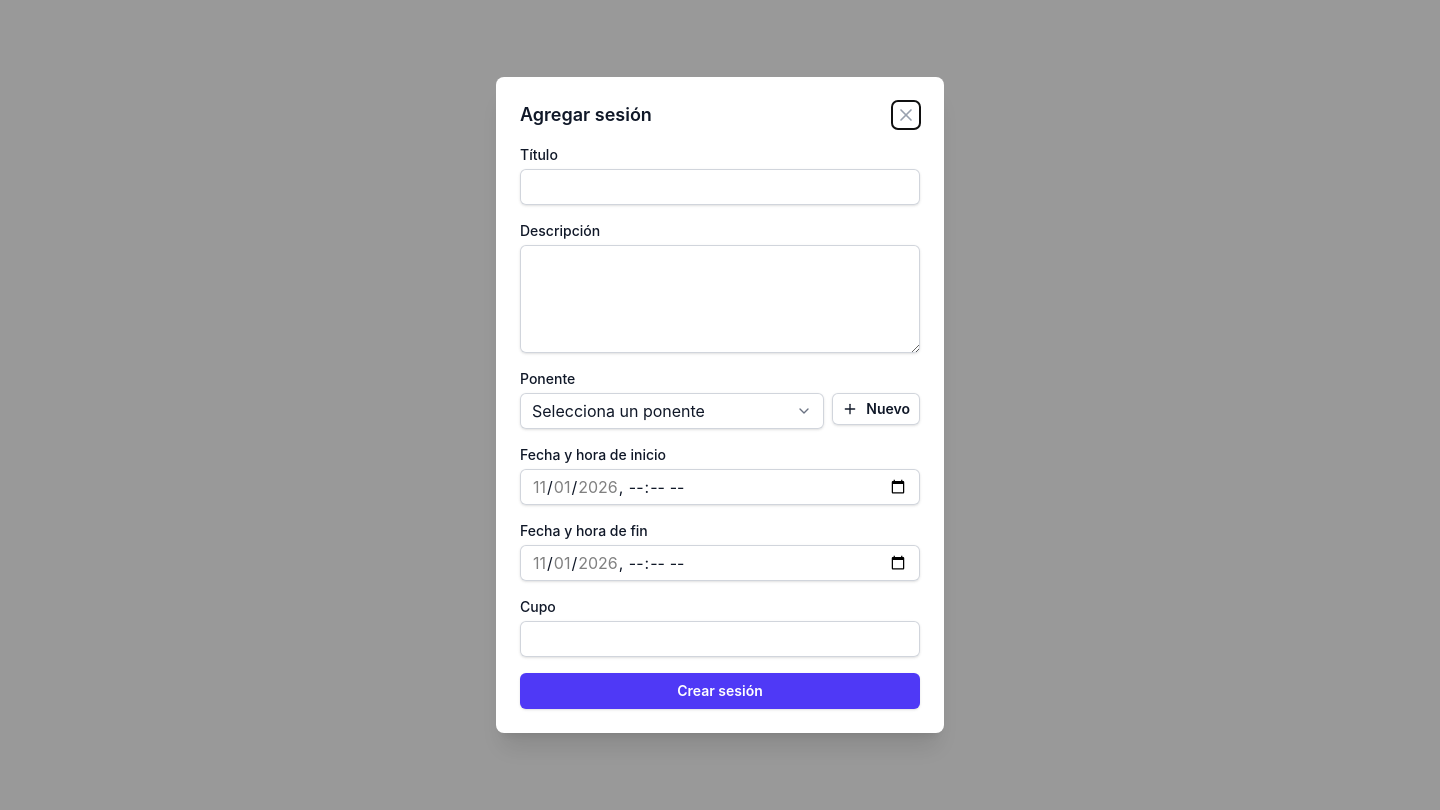
Scenario: SessionFormDialog › muestra un mensaje claro cuando el ponente ya tiene una sesión en ese horario (422 SESSION_OVERLAP)
This screenshot has width=1440, height=810.
Type "Charla simultánea" into the field labelled "Título" at (720, 187), box left=520, top=169, right=920, bottom=205
Click the dropdown labelled "ponente" at (672, 411), box left=520, top=393, right=824, bottom=429
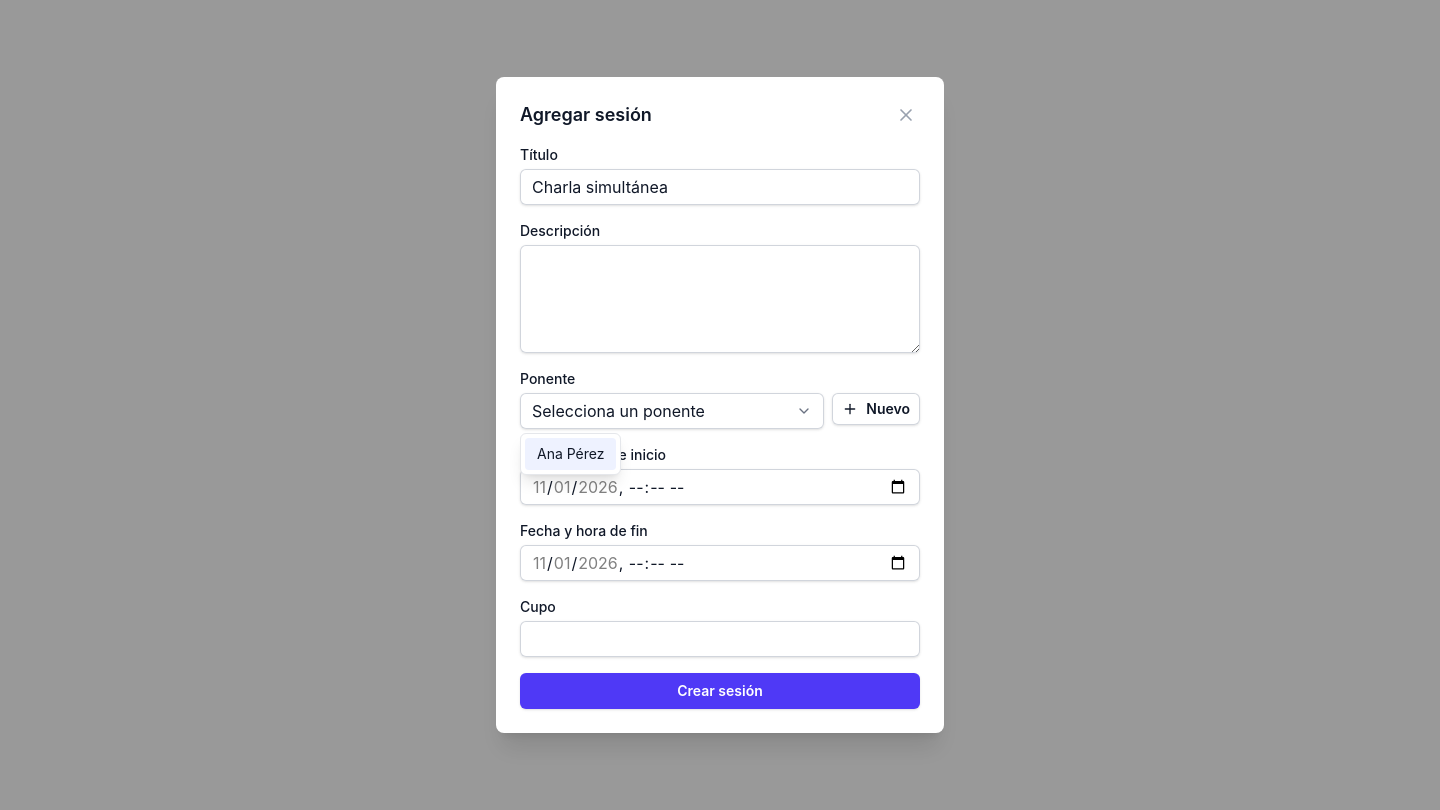
Click the option "Ana Pérez" at (571, 454), box left=525, top=438, right=616, bottom=470
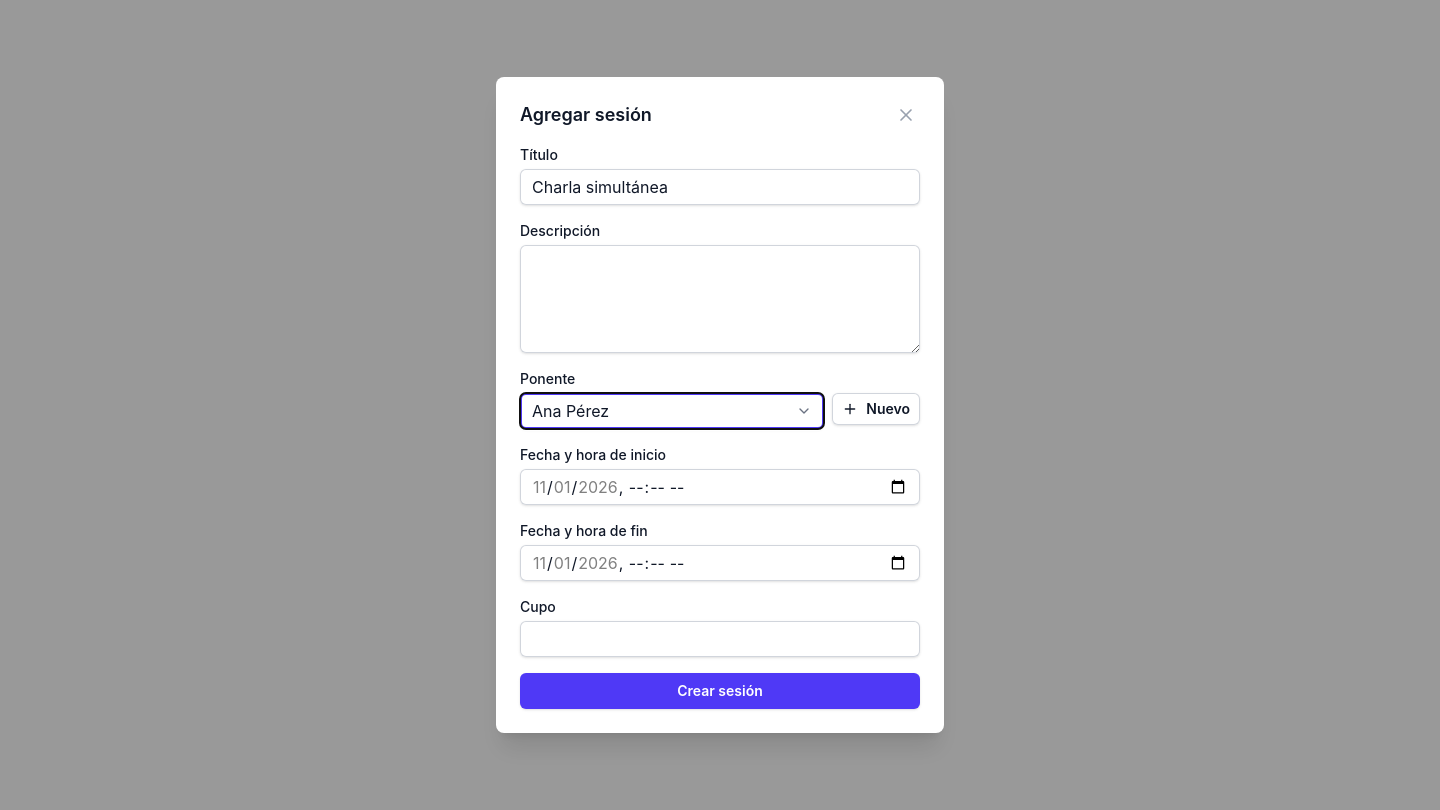
Type "2026-11-01T10:00" into the field labelled "Fecha y hora de inicio" at (720, 487), box left=520, top=469, right=920, bottom=505
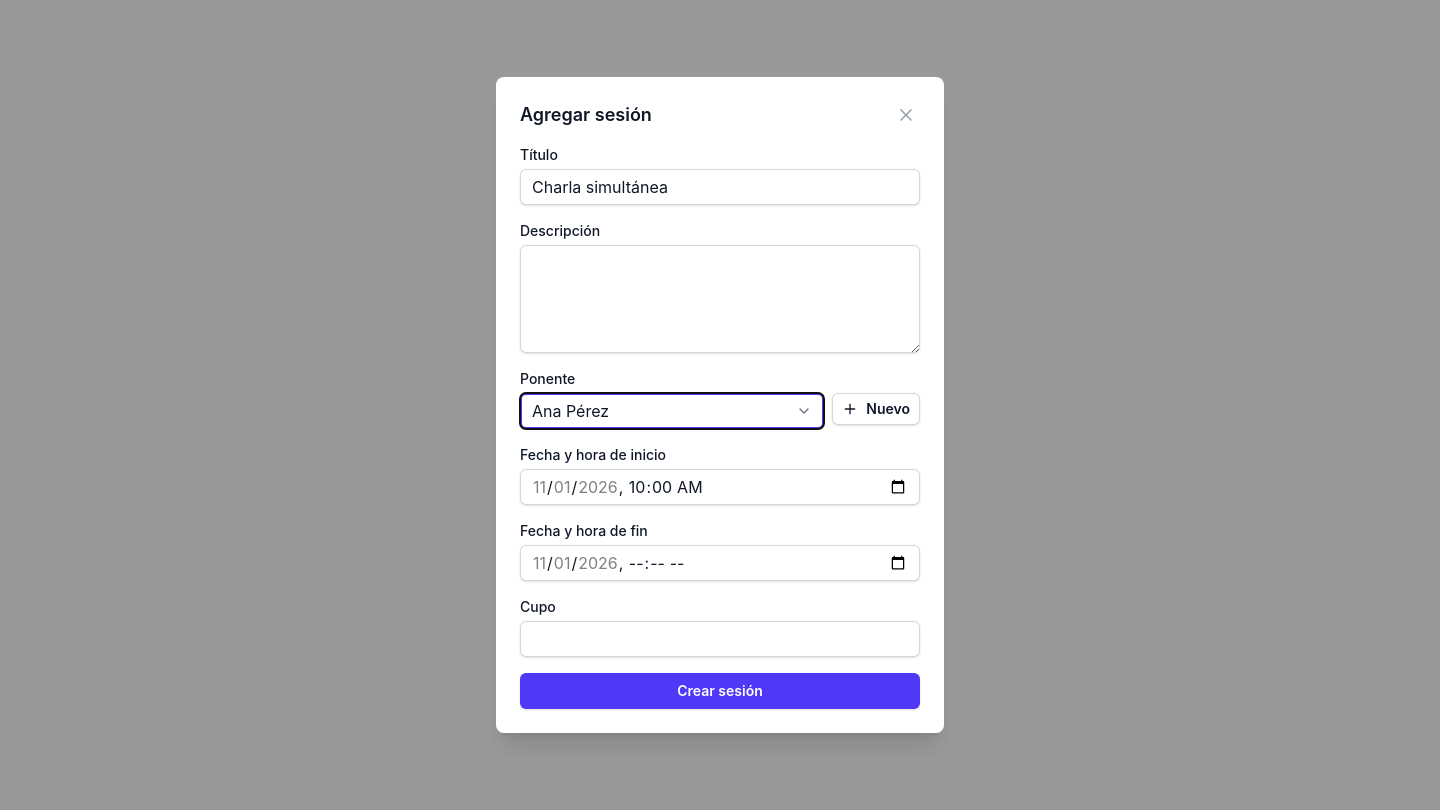
Type "2026-11-01T11:00" into the field labelled "Fecha y hora de fin" at (720, 563), box left=520, top=545, right=920, bottom=581
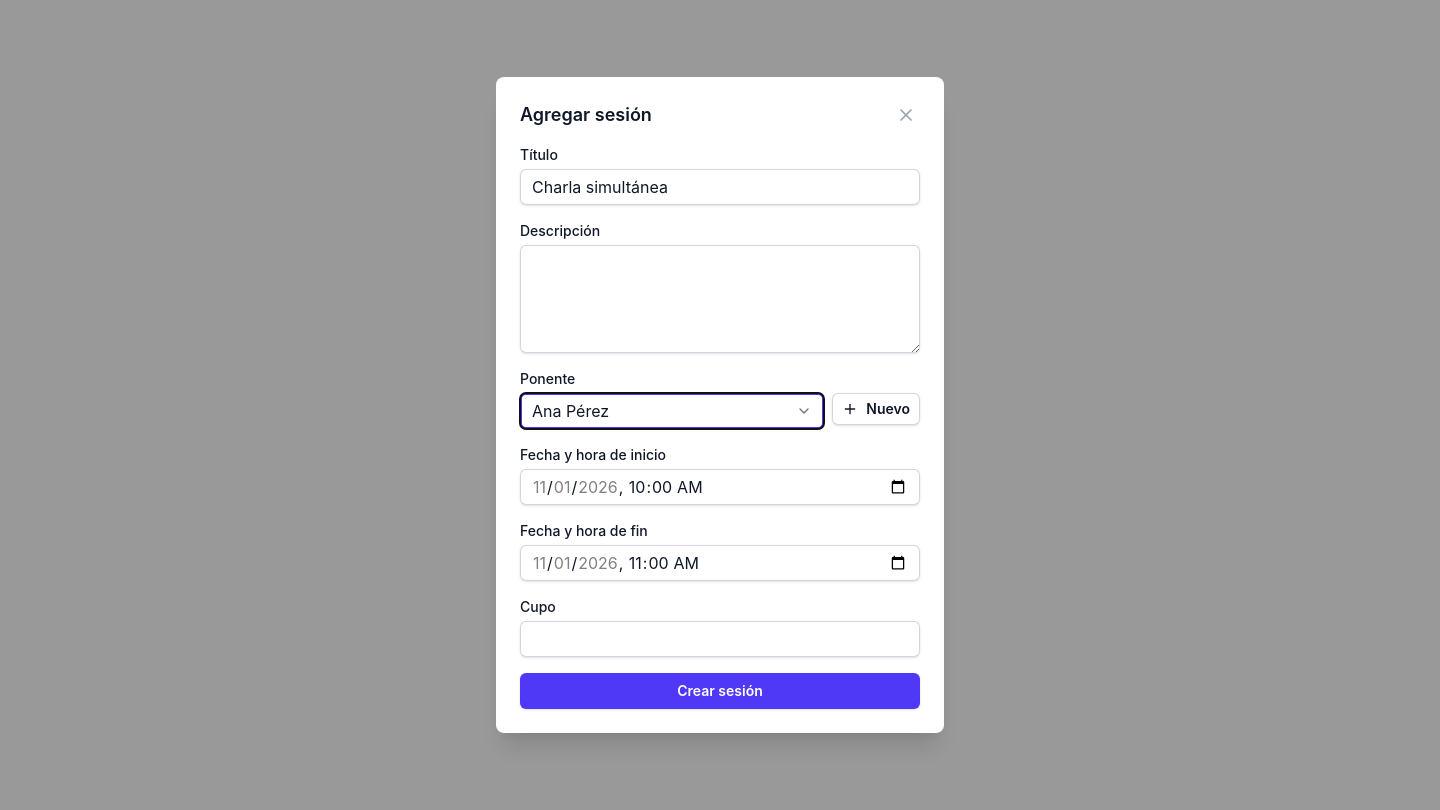
Type "1" into the number field labelled "Cupo" at (720, 639), box left=520, top=621, right=920, bottom=657
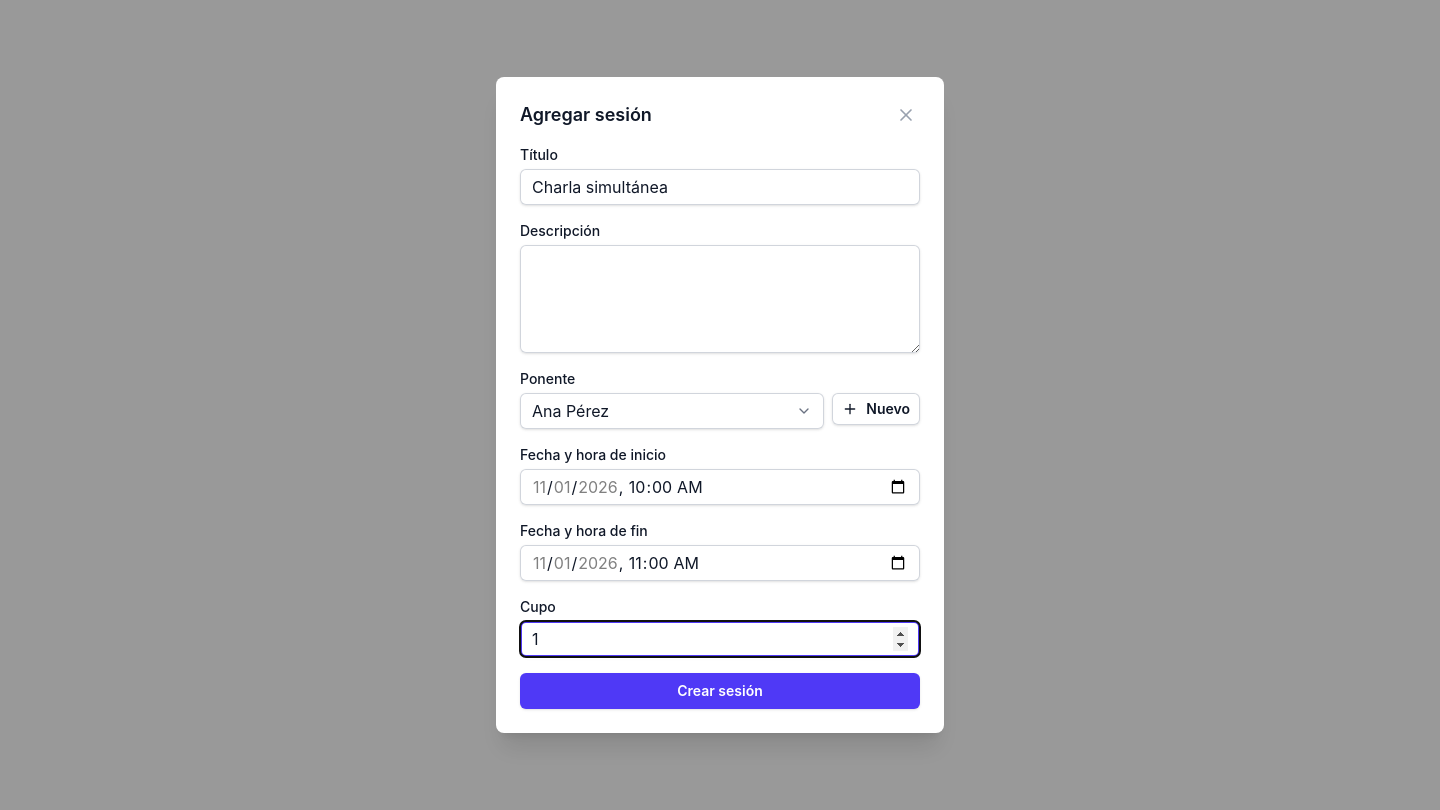
Click the button "Crear sesión" at (720, 691), box left=520, top=673, right=920, bottom=709
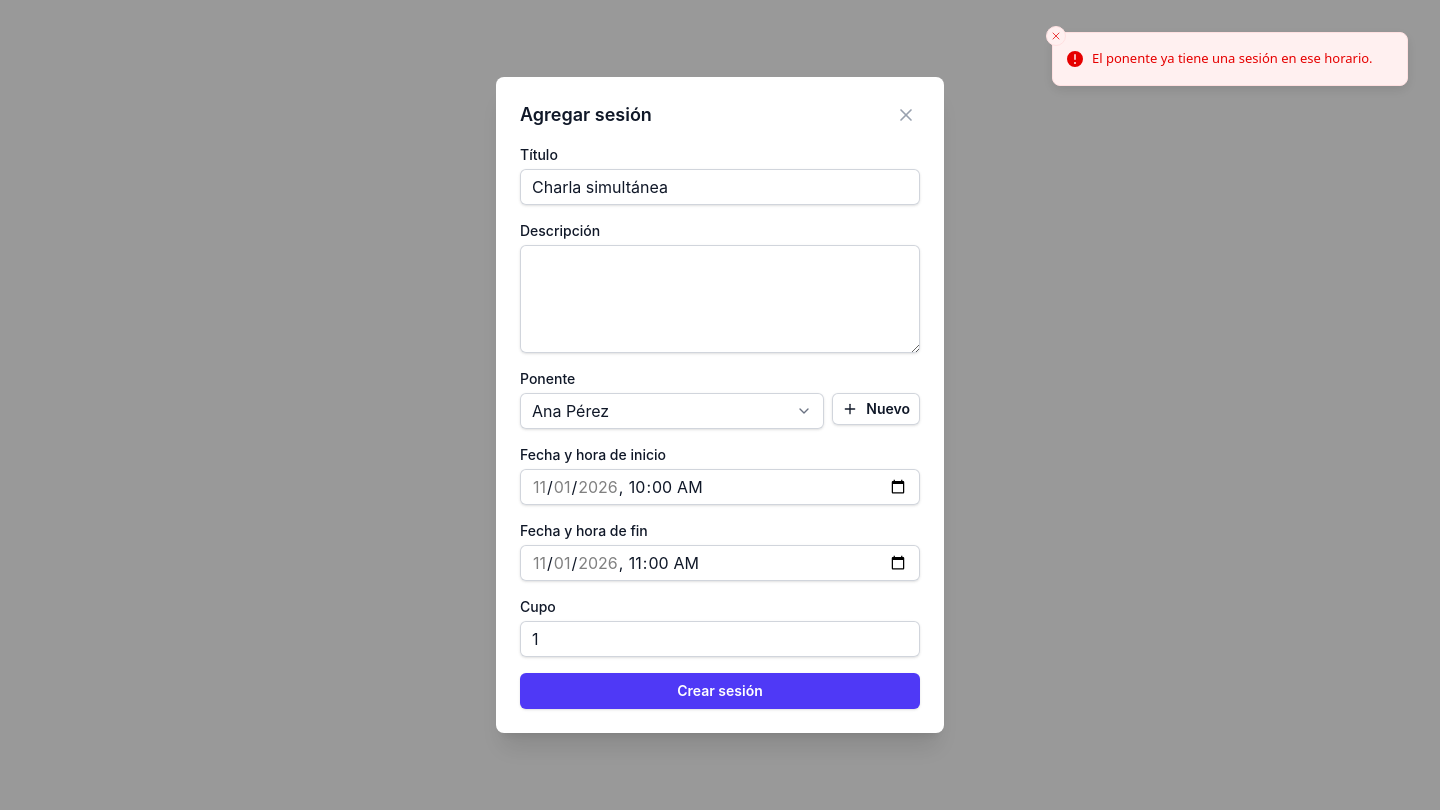
Expected: the text "El ponente ya tiene una sesión en ese horario." is shown, left=1092, top=49, right=1373, bottom=68
